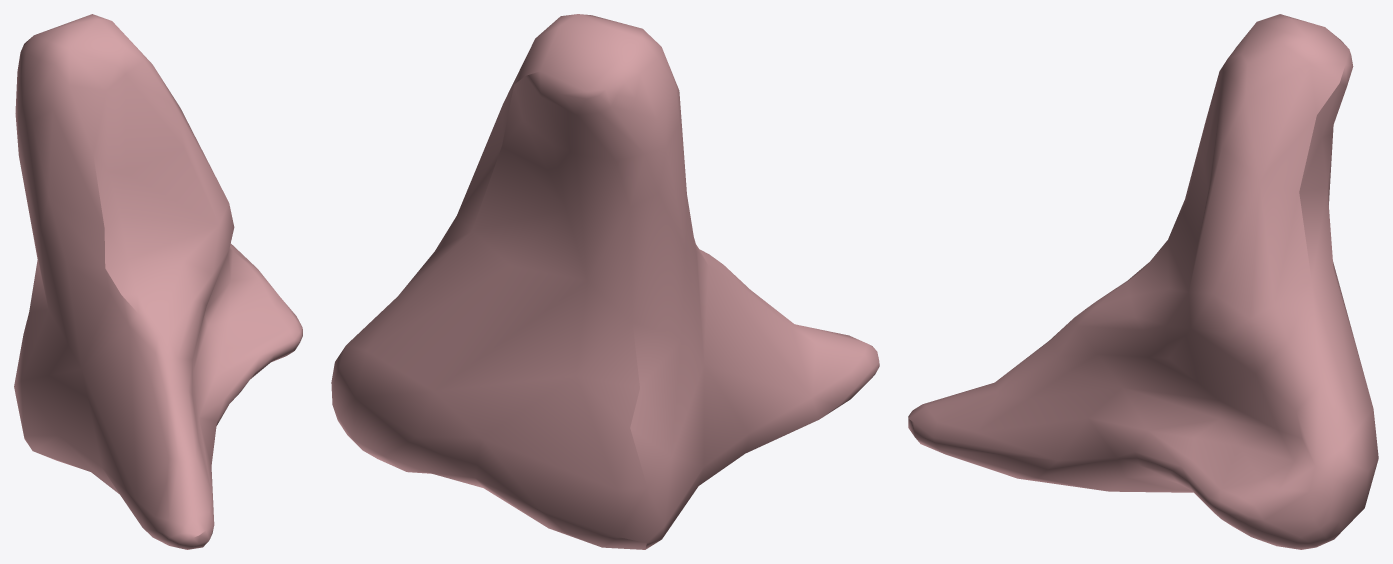
File: fma55114_fj2775.glb
The picture shows the model from 3 angles, left to right: view 1: azimuth 30°, elevation 25°; view 2: azimuth 150°, elevation 25°; view 3: azimuth 270°, elevation 25°; orthographic projection. The views are drawn at different scales.
Visible parts, largest first — view 1: FMA55114_FJ2775; view 2: FMA55114_FJ2775; view 3: FMA55114_FJ2775.
Part boxes in pixels (x1=…): FMA55114_FJ2775: x1=14, y1=14, x2=302, y2=549; FMA55114_FJ2775: x1=331, y1=14, x2=879, y2=549; FMA55114_FJ2775: x1=908, y1=14, x2=1378, y2=549.
Bounding box in the file's own units: 0.00554 × 0.00814 × 0.00731.
